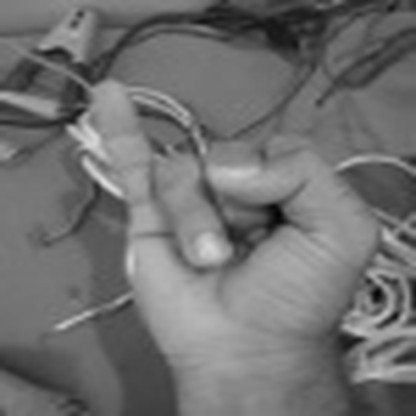i: (86, 70, 385, 364)
